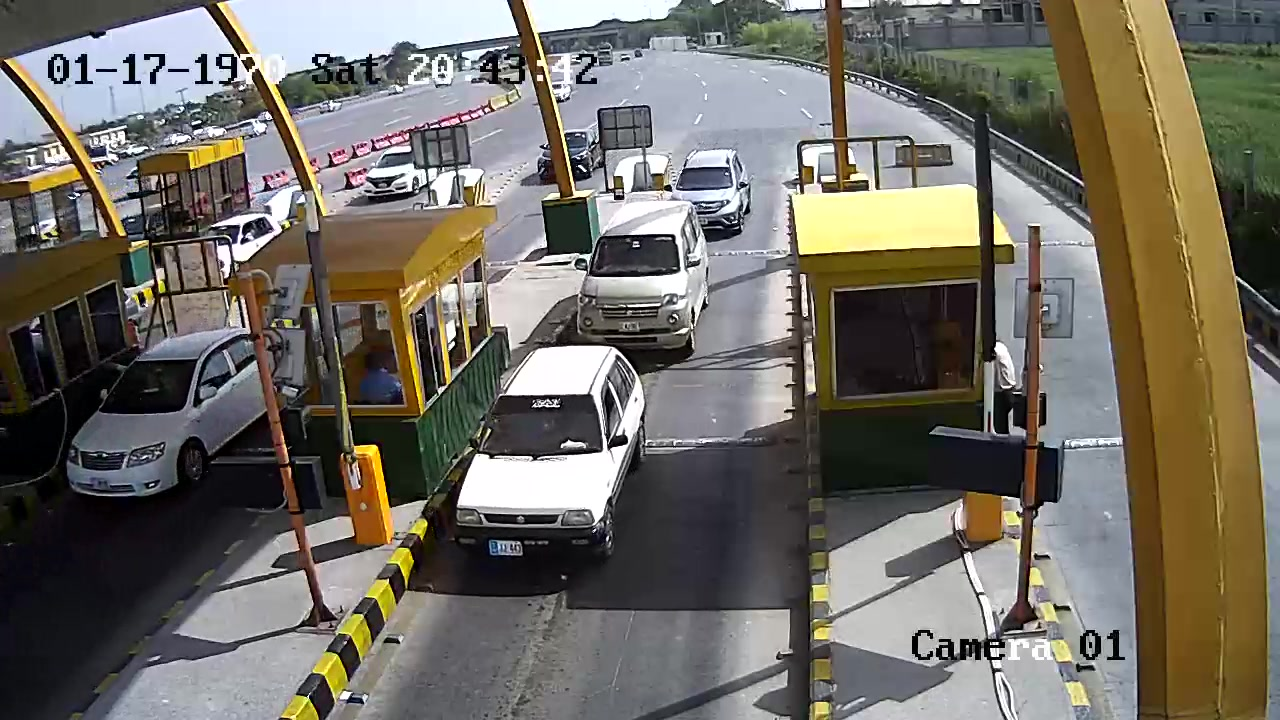F1: (449, 347, 650, 561), (573, 196, 715, 362)
